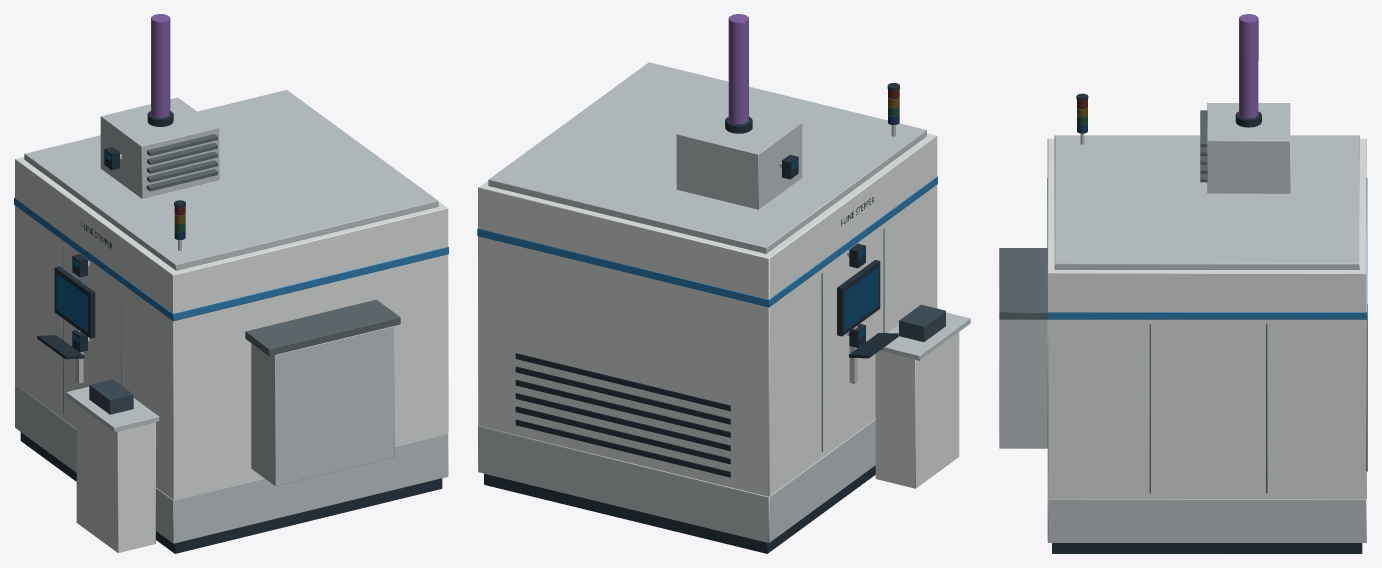
The model's file is fab1-tool-stepper.glb.
3 views of the same model, side by side, from view 1: azimuth 30°, elevation 25°; view 2: azimuth 150°, elevation 25°; view 3: azimuth 270°, elevation 25° (orthographic). The views are drawn at different scales.
Visible parts, largest first — view 1: TOOL_STP_Body, TOOL_STP_Interface, TOOL_STP_ReticleLoader, TOOL_STP_LampHouse, TOOL_STP_Operator, TOOL_HMI_Screen; view 2: TOOL_STP_Body, TOOL_STP_ReticleLoader, TOOL_STP_LampHouse, TOOL_STP_Operator, TOOL_HMI_Screen; view 3: TOOL_STP_Body, TOOL_STP_LampHouse, TOOL_STP_Interface, TOOL_STP_SignalTower.
Boxes of the visible parts, x1,y1,x2,y2 form: TOOL_STP_Body: (14, 90, 448, 553); TOOL_STP_Interface: (245, 299, 400, 486); TOOL_STP_ReticleLoader: (66, 379, 159, 552); TOOL_STP_LampHouse: (100, 14, 219, 198); TOOL_STP_Operator: (37, 266, 95, 383); TOOL_HMI_Screen: (56, 273, 87, 332); TOOL_STP_Body: (477, 62, 937, 553); TOOL_STP_ReticleLoader: (875, 304, 970, 488); TOOL_STP_LampHouse: (676, 14, 802, 209); TOOL_STP_Operator: (837, 260, 898, 383); TOOL_HMI_Screen: (845, 267, 878, 329); TOOL_STP_Body: (1047, 135, 1367, 553); TOOL_STP_LampHouse: (1200, 14, 1290, 193); TOOL_STP_Interface: (999, 248, 1047, 448); TOOL_STP_SignalTower: (1076, 93, 1088, 144).
Size of the model in its own units: 2.69 by 3.55 by 2.66.
2 materials, 1 textured.
